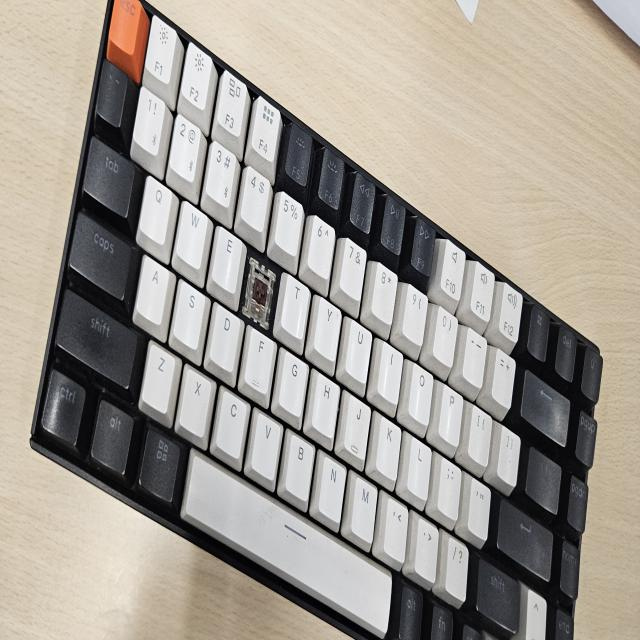C: (250, 264, 270, 316)
